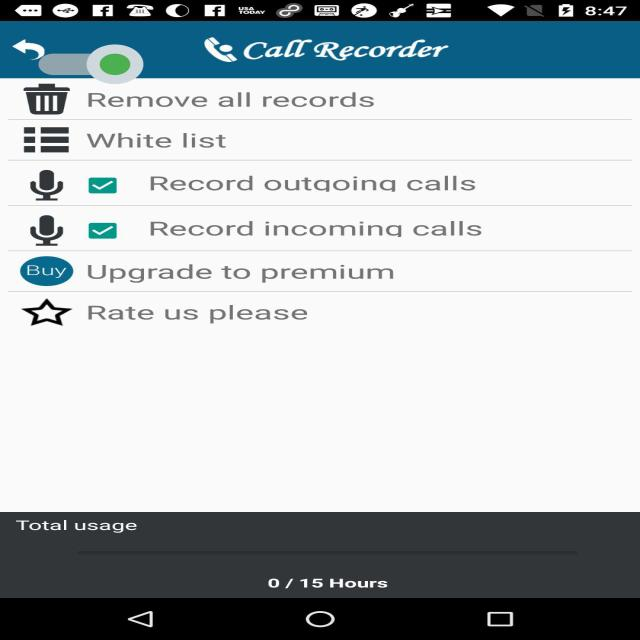social proof: (38, 28, 144, 101)
